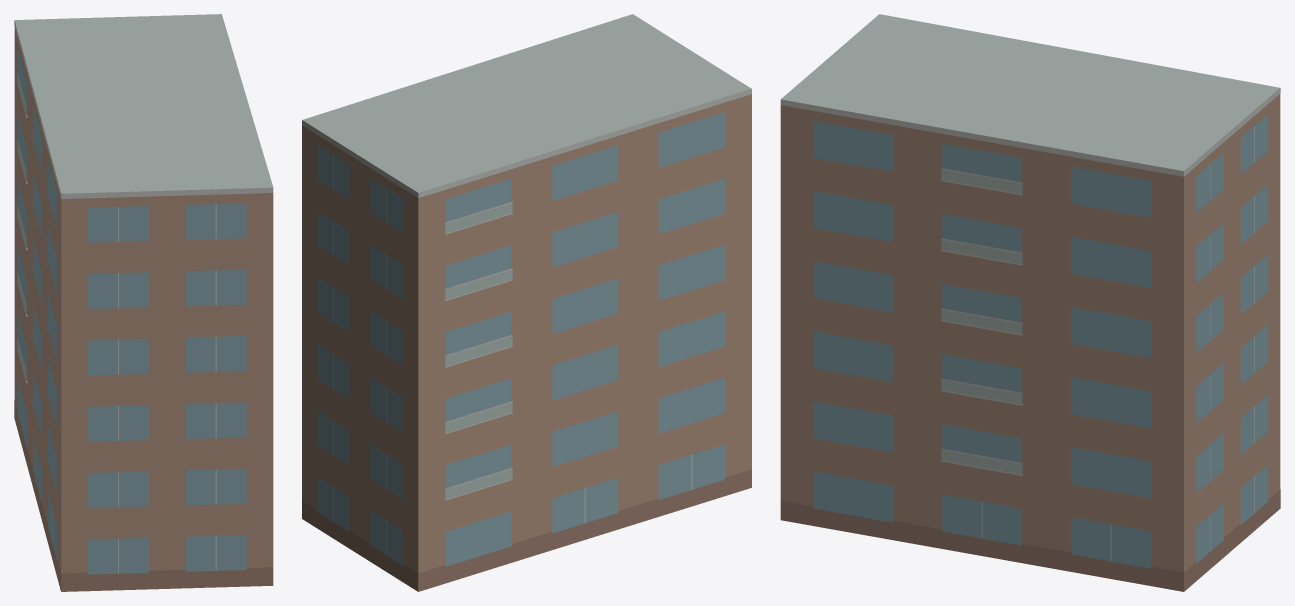
Rendered from survey-upis-32965775.glb.
3 renders of one model, left to right at view 1: azimuth 30°, elevation 25°; view 2: azimuth 150°, elevation 25°; view 3: azimuth 270°, elevation 25°, orthographic. The views are drawn at different scales.
Parts seen in each view (by area): view 1: survey-upis-32965775.tmp; view 2: survey-upis-32965775.tmp; view 3: survey-upis-32965775.tmp.
Part boxes in pixels (bbox=[...]): survey-upis-32965775.tmp: bbox=[14, 14, 273, 591]; survey-upis-32965775.tmp: bbox=[302, 14, 751, 591]; survey-upis-32965775.tmp: bbox=[780, 14, 1280, 591].
Size of the model in its own units: 14.67 by 18.3 by 19.71.
